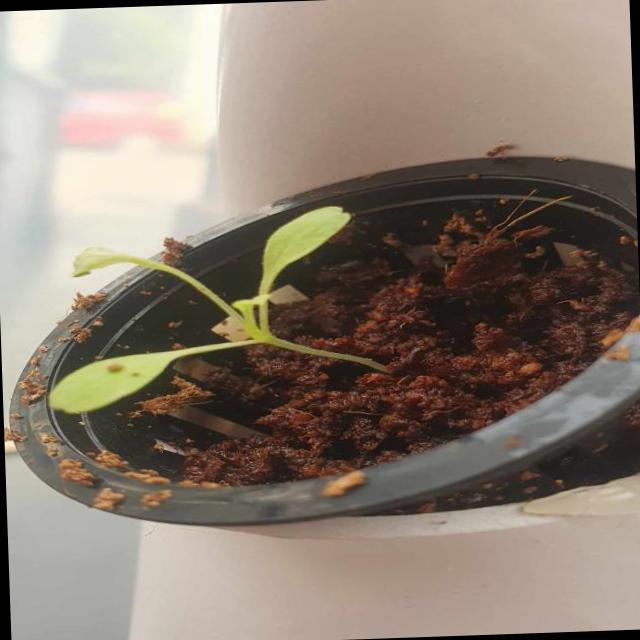Lettuce-Not-Ready-to-Harvest: (49, 206, 387, 413)
